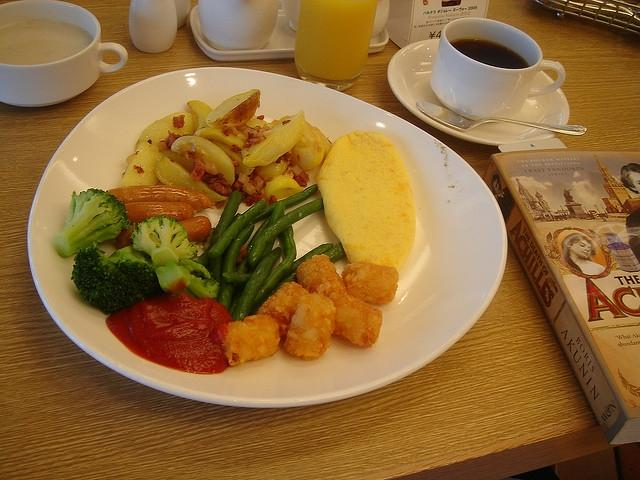broccoli: (70, 245, 167, 315), (53, 188, 131, 258), (130, 216, 203, 268), (154, 258, 220, 300)
green bean: (248, 242, 346, 316), (247, 198, 324, 271), (252, 225, 297, 310), (208, 198, 268, 259), (232, 248, 282, 320), (217, 223, 254, 312), (246, 184, 318, 226), (210, 191, 242, 283), (274, 244, 334, 288), (236, 214, 272, 274), (258, 201, 286, 263), (222, 272, 252, 286)
potato: (243, 109, 305, 168), (156, 156, 228, 202), (170, 136, 234, 185), (134, 112, 194, 152), (205, 89, 260, 129), (120, 142, 162, 187), (290, 120, 326, 170), (255, 150, 292, 182), (193, 127, 244, 149), (264, 175, 304, 200), (188, 100, 214, 132), (245, 114, 269, 128), (236, 124, 248, 131)
